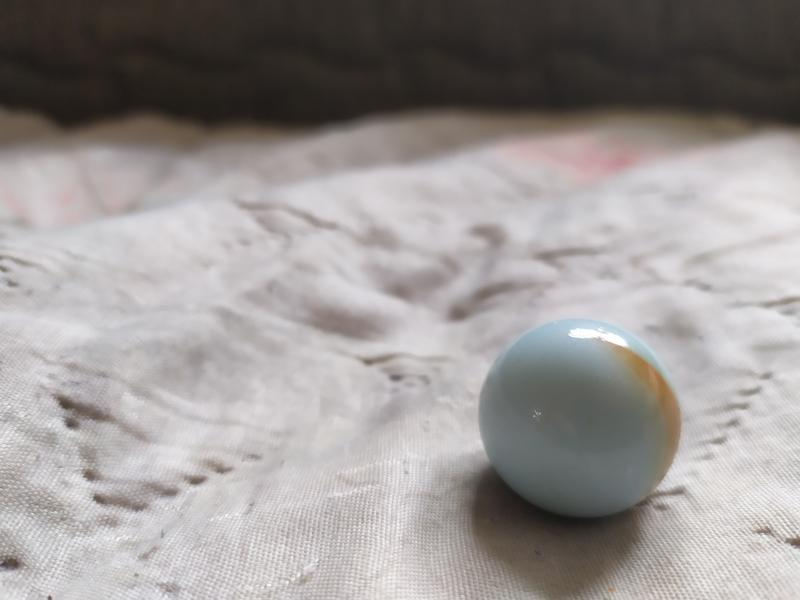Warning: (474, 312, 689, 524)
